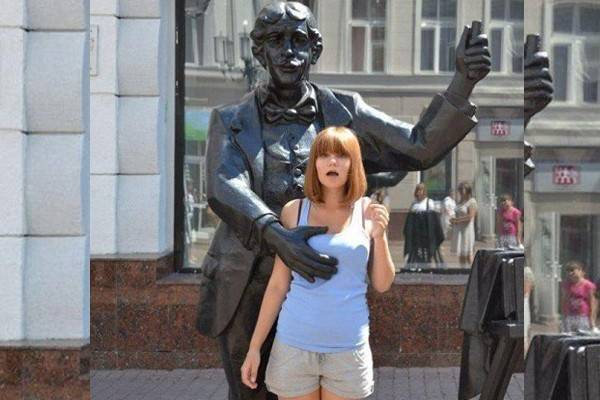person: (271, 122, 388, 288)
